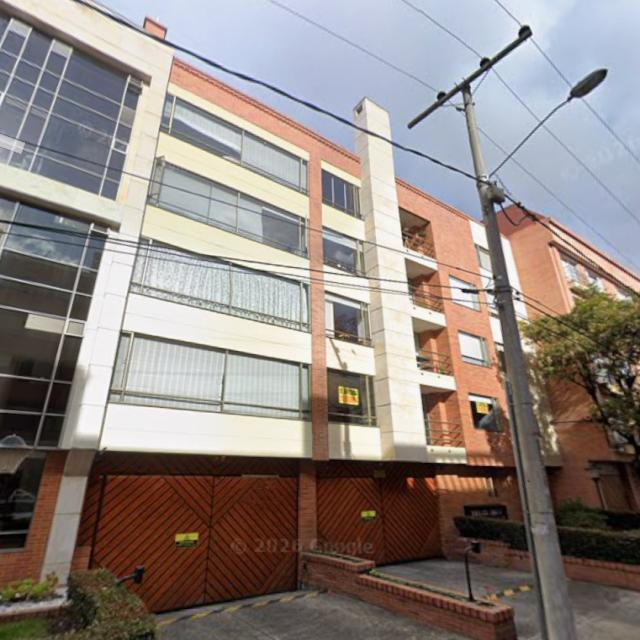fachada: (0, 0, 521, 610), (498, 206, 639, 318)
poste: (462, 84, 576, 639), (465, 548, 474, 602)
